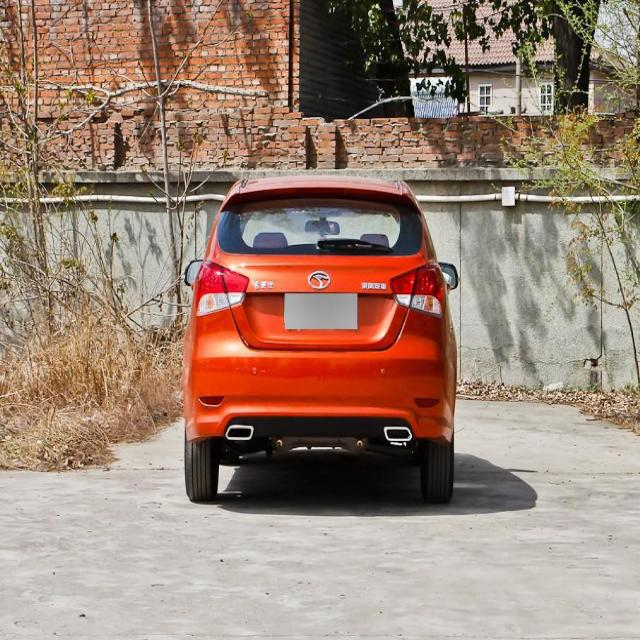back_glass: (216, 196, 423, 256)
back_left_side_light: (196, 257, 248, 319)
back_right_side_light: (389, 260, 446, 318)
front_left_side_mirror: (185, 258, 204, 290)
front_right_side_mirror: (437, 258, 460, 292)
rear_bumper: (185, 304, 456, 440)
wheel: (184, 436, 219, 502), (422, 439, 454, 503)
